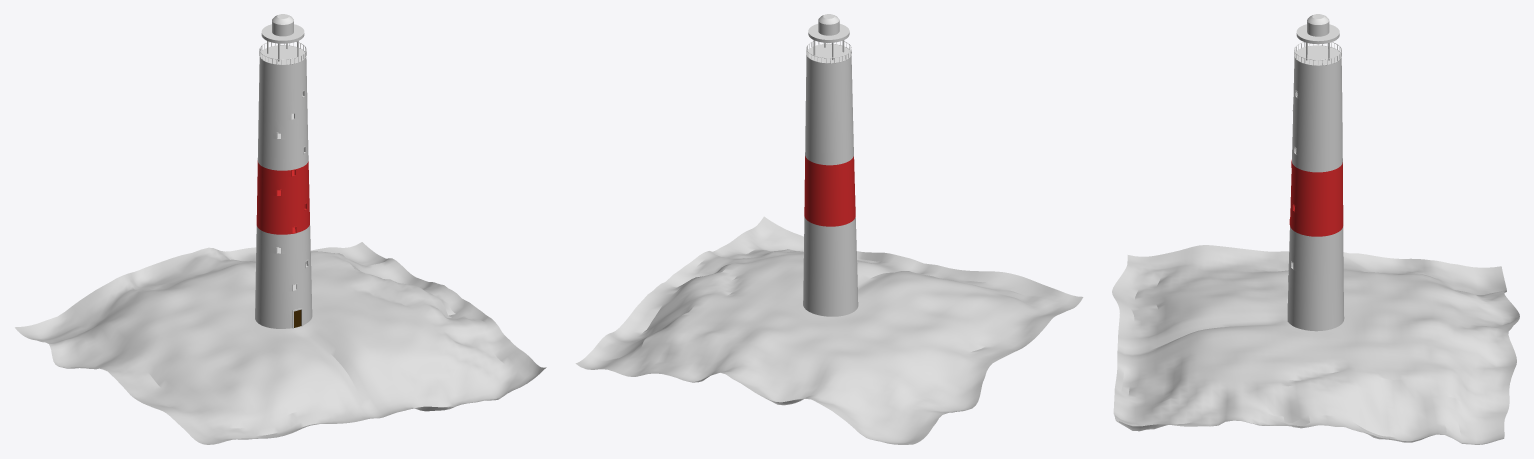
Rendered from faro.glb.
3 views of the same model, side by side, from view 1: azimuth 30°, elevation 25°; view 2: azimuth 150°, elevation 25°; view 3: azimuth 270°, elevation 25° (orthographic). The views are drawn at different scales.
Parts seen in each view (by area): view 1: Plane; view 2: Plane; view 3: Plane.
Boxes of the visible parts, x1,y1,x2,y2 form: Plane: [15, 14, 546, 444]; Plane: [575, 14, 1083, 444]; Plane: [1112, 14, 1519, 444].
Bounding box in the file's own units: 14.97 × 13.48 × 14.36.
